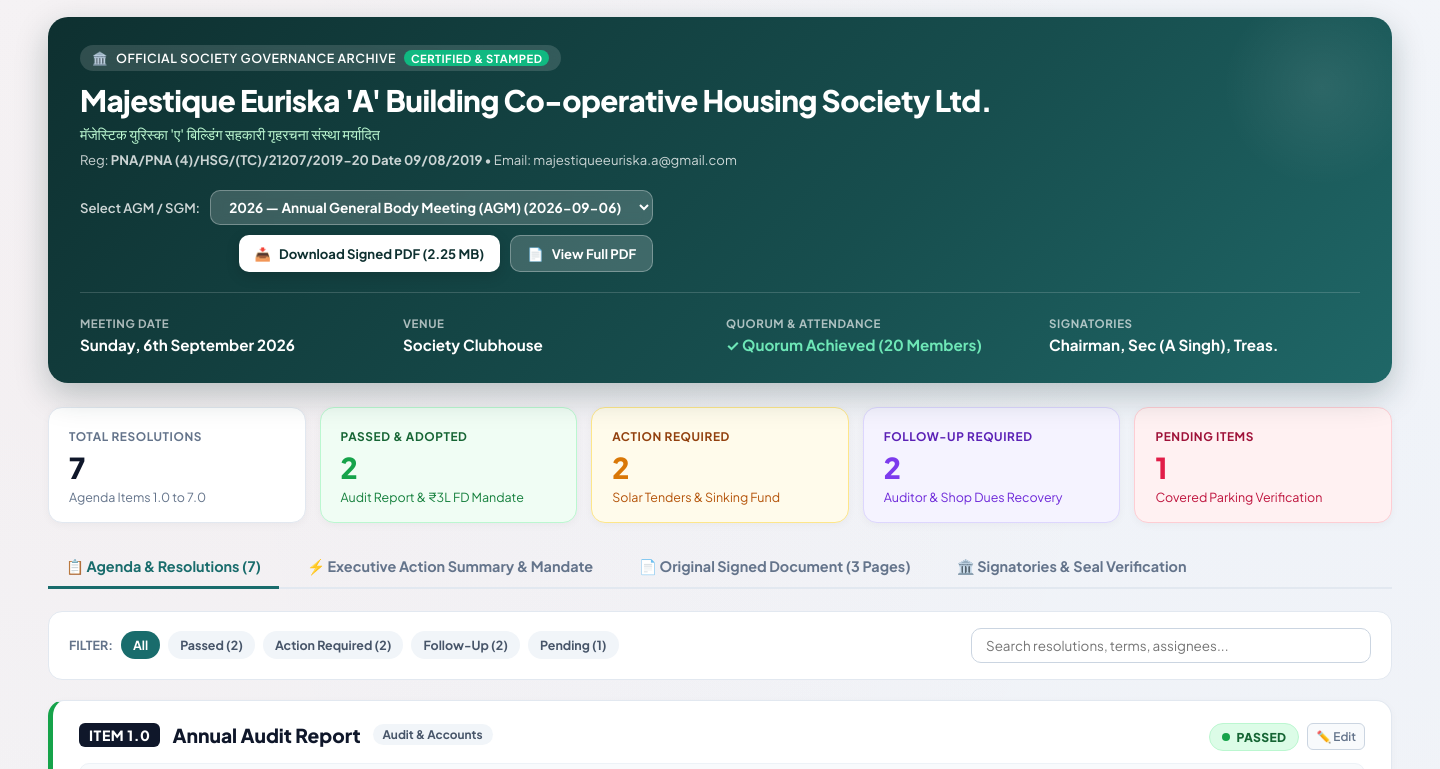
Test: AgmMeetingTracker Component › switches meeting to AGM 2025 and loads its 16 resolutions and details
Select "2025 — Annual General Body Meeting (AGM) (2025-11-02)" in the dropdown: (432, 207) [210,190,653,225]
(page scrolled)
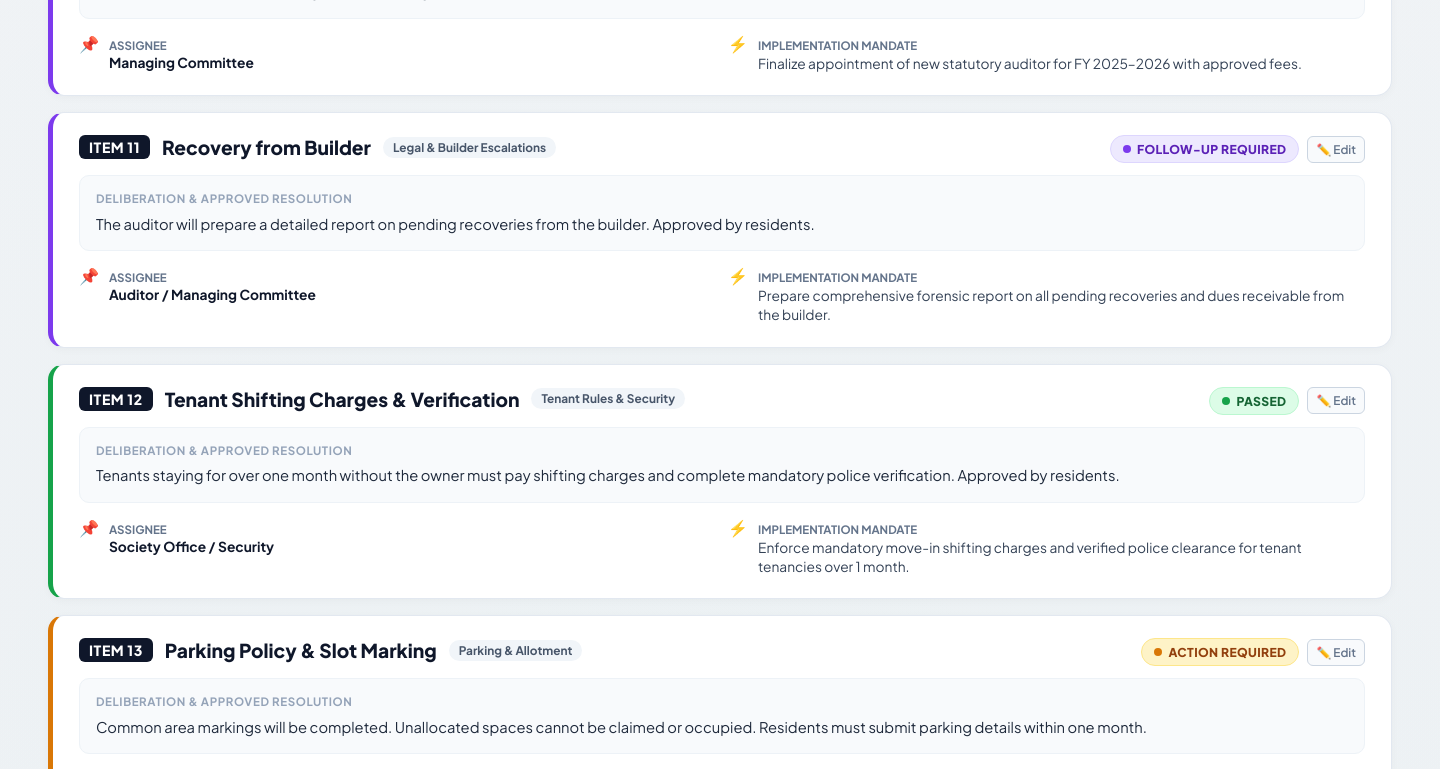
Check: the heading "Tenant Shifting Charges & Verification" is shown, box [165,387,519,411]
